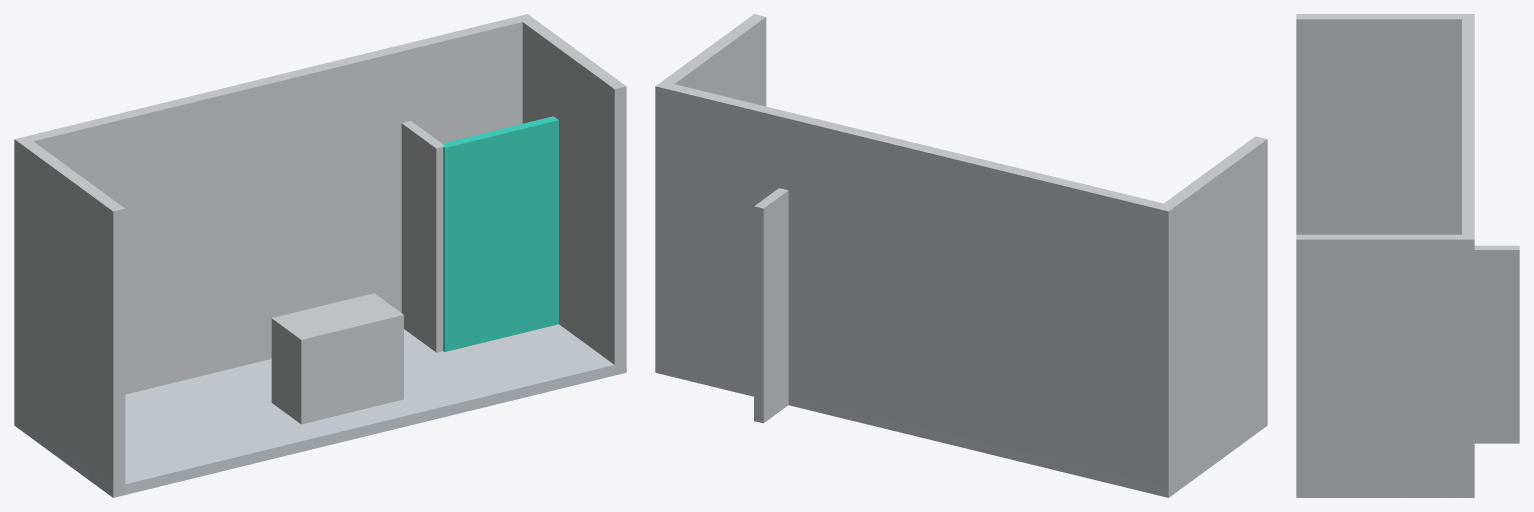
3 views of the same model, side by side, from view 1: azimuth 30°, elevation 25°; view 2: azimuth 150°, elevation 25°; view 3: azimuth 270°, elevation 25° (orthographic). The views are drawn at different scales.
Visible parts, largest first — view 1: Exhibition Booth Concept; view 2: Exhibition Booth Concept; view 3: Exhibition Booth Concept.
Boxes of the visible parts, x1,y1,x2,y2 form: Exhibition Booth Concept: (14,14,626,497); Exhibition Booth Concept: (655,14,1267,497); Exhibition Booth Concept: (1296,14,1519,497).
Size of the model in its own units: 6 by 3.2 by 2.5.
